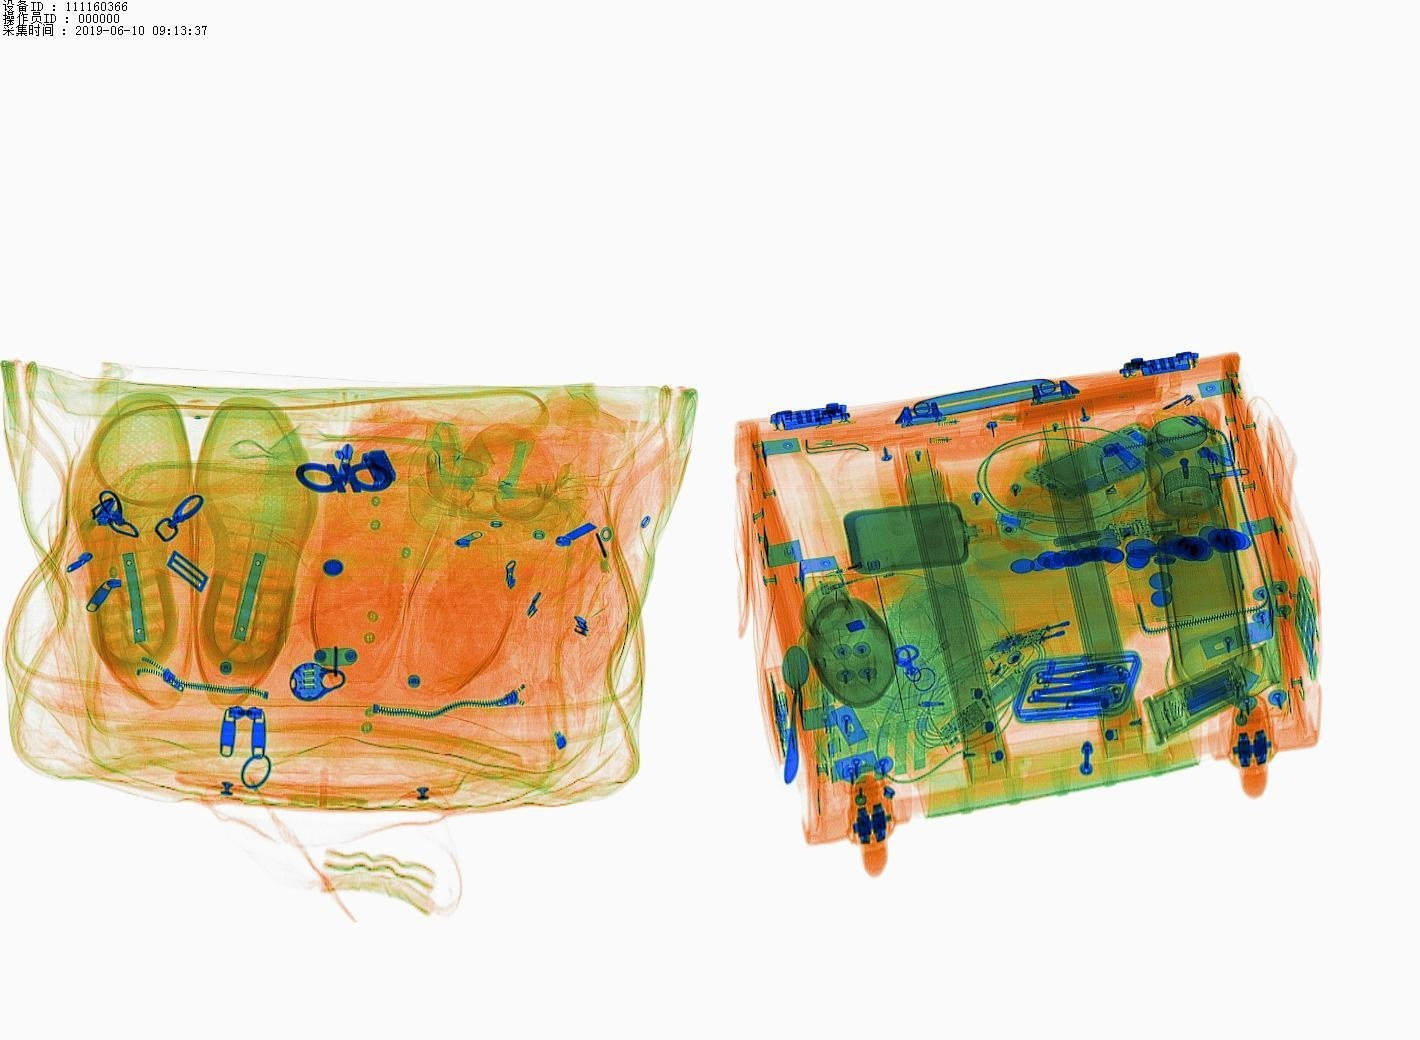NonmetallicFire: (800, 542, 910, 601)
